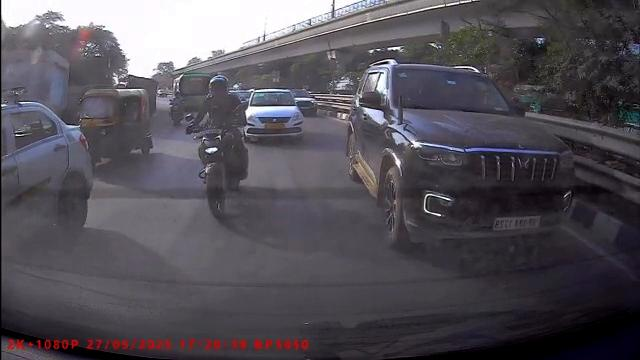motorcycle_with_helmet: (183, 69, 255, 221)
